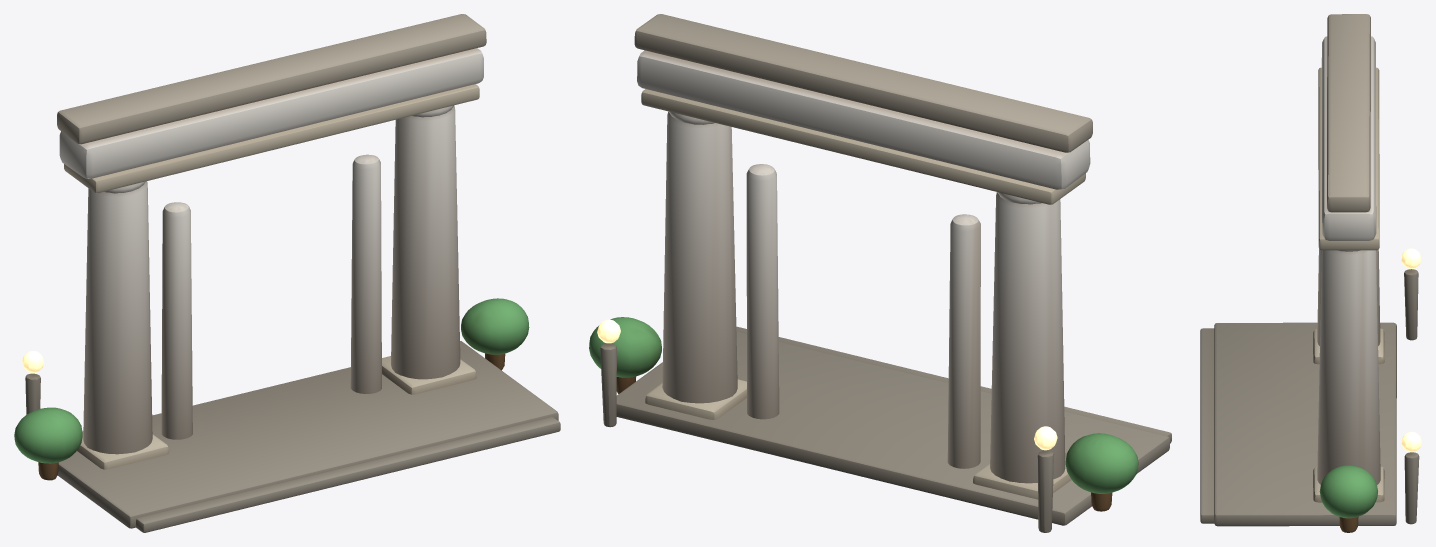
3 renders of one model, left to right at view 1: azimuth 30°, elevation 25°; view 2: azimuth 150°, elevation 25°; view 3: azimuth 270°, elevation 25°, orthographic. The views are drawn at different scales.
Visible parts, largest first — view 1: gate_d43c1405; view 2: gate_d43c1405; view 3: gate_d43c1405.
Boxes of the visible parts, left/top/right/bottom form: gate_d43c1405: left=14, top=14, right=560, bottom=532; gate_d43c1405: left=589, top=14, right=1171, bottom=532; gate_d43c1405: left=1200, top=14, right=1421, bottom=532.
Bounding box in the file's own units: 6.2 × 4.16 × 2.55.
